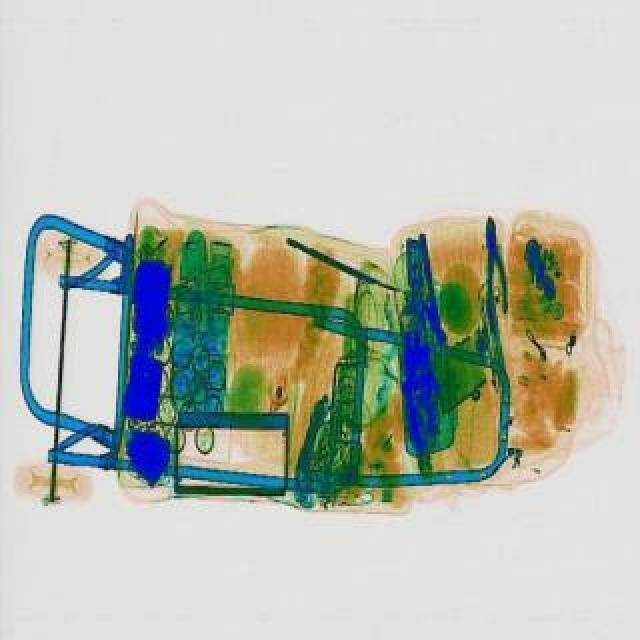wrench: (478, 214, 512, 332)
